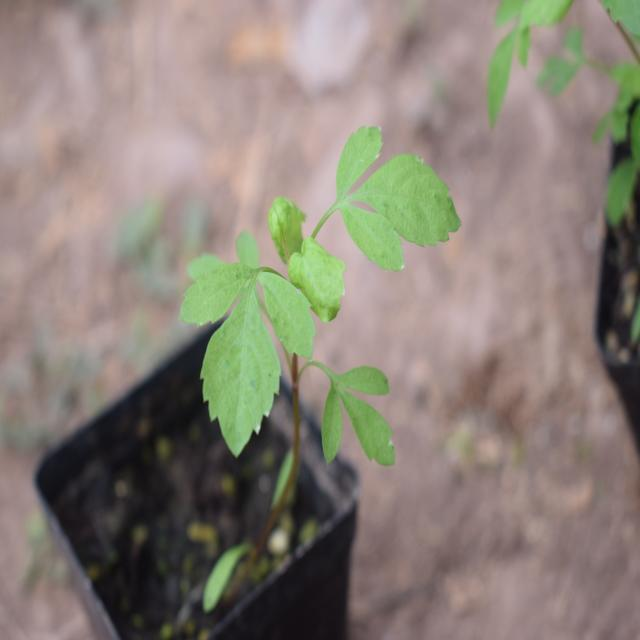Bidens pilosa: (166, 128, 477, 494)
